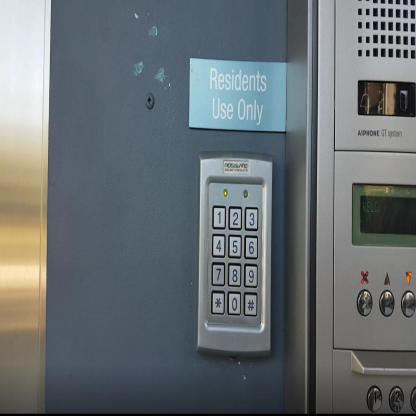0: (225, 288, 242, 316)
1: (364, 382, 384, 415), (211, 202, 226, 230)
2: (387, 382, 405, 416), (227, 203, 243, 231)
3: (243, 204, 259, 232)
4: (210, 230, 226, 258)
5: (226, 232, 243, 259)
6: (242, 232, 258, 260)
7: (210, 259, 226, 287)
8: (226, 260, 243, 287)
9: (242, 261, 258, 288)
empty: (378, 286, 396, 318), (400, 287, 416, 318)
s: (210, 287, 226, 315)
stop: (356, 286, 374, 317)
unknown: (242, 290, 258, 317)
